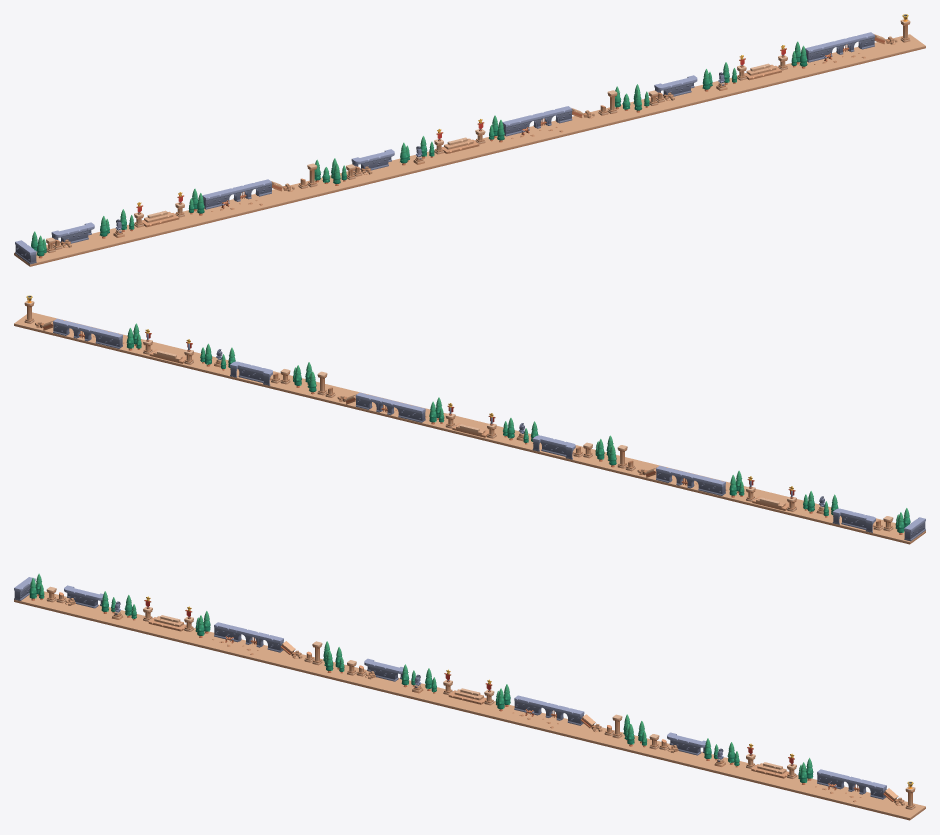
Rendered from game-environment.glb.
3 views of the same model, one above another, from view 1: azimuth 30°, elevation 25°; view 2: azimuth 150°, elevation 25°; view 3: azimuth 330°, elevation 25° (orthographic).
Visible parts, largest first — view 1: environment; view 2: environment; view 3: environment.
Part boxes in pixels (x1,y1,x2,y2): environment: (14, 14, 925, 266); environment: (14, 295, 925, 544); environment: (14, 573, 925, 820).
Bounding box in the file's own units: 81.21 × 2.39 × 2.52.
Materials: 1 (1 with a texture image).
